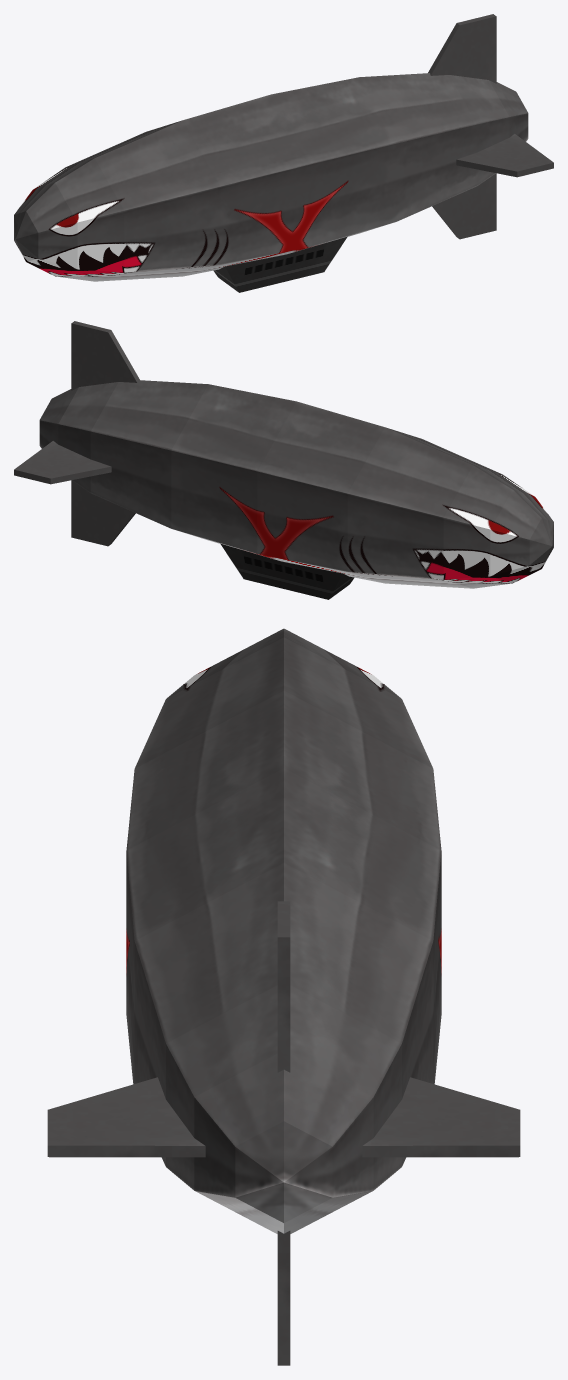
Rendered from Zeppeelin.FBX.
3 renders of one model, top to bottom at view 1: azimuth 30°, elevation 25°; view 2: azimuth 150°, elevation 25°; view 3: azimuth 270°, elevation 25°, orthographic. The views are drawn at different scales.
Visible parts, largest first — view 1: Zeppelin; view 2: Zeppelin; view 3: Zeppelin.
Part boxes in pixels (x1,y1,x2,y2): Zeppelin: [14, 14, 553, 292]; Zeppelin: [14, 321, 553, 599]; Zeppelin: [47, 628, 520, 1365].
Bounding box in the file's own units: 377 × 151 × 151.
